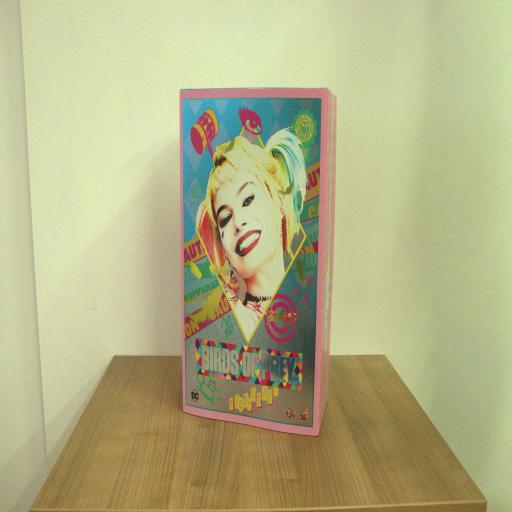Harley: (180, 86, 338, 436)
